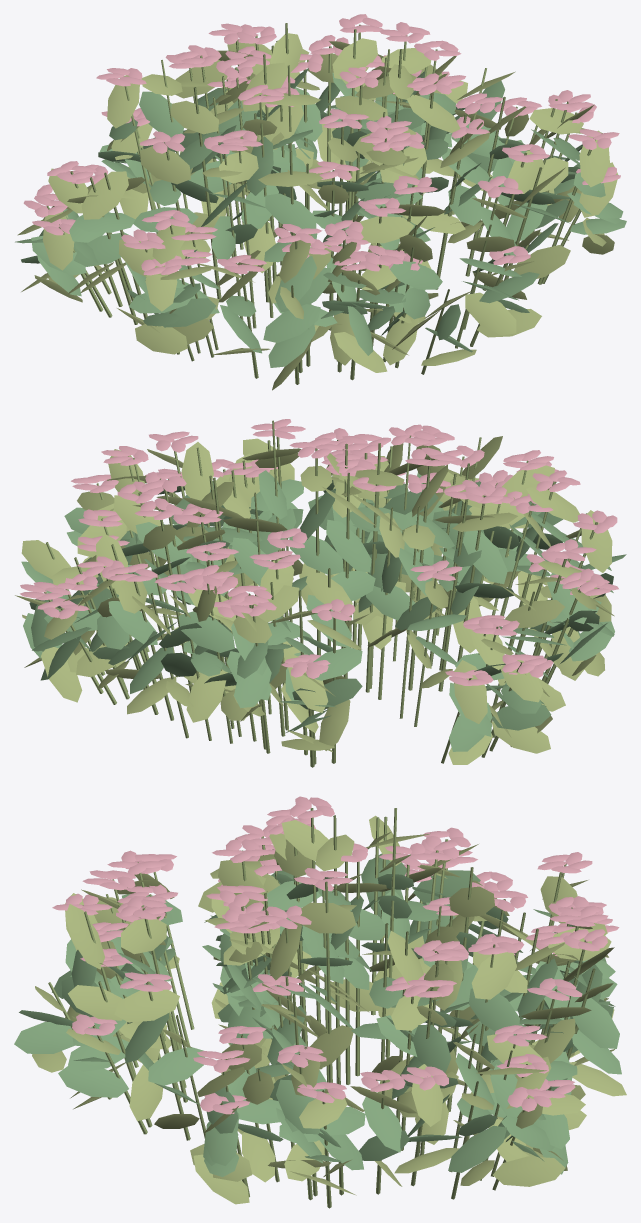
The model's file is study_flower_mound_1.glb.
3 renders of one model, top to bottom at view 1: azimuth 30°, elevation 25°; view 2: azimuth 150°, elevation 25°; view 3: azimuth 270°, elevation 25°, orthographic. The views are drawn at different scales.
Parts seen in each view (by area): view 1: study_flower_mound_1_StudyLeafGold, study_flower_mound_1_StudyLeafJade, study_flower_mound_1_StudyRose, study_flower_mound_1_LakeReed; view 2: study_flower_mound_1_StudyLeafGold, study_flower_mound_1_StudyLeafJade, study_flower_mound_1_StudyRose, study_flower_mound_1_LakeReed; view 3: study_flower_mound_1_StudyLeafGold, study_flower_mound_1_StudyLeafJade, study_flower_mound_1_StudyRose, study_flower_mound_1_LakeReed.
Part boxes in pixels (box(x1,y1,x2,y2)): study_flower_mound_1_StudyLeafGold: box(17, 33, 618, 390); study_flower_mound_1_StudyLeafJade: box(15, 68, 626, 367); study_flower_mound_1_StudyRose: box(23, 14, 620, 275); study_flower_mound_1_LakeReed: box(46, 23, 595, 384); study_flower_mound_1_StudyLeafGold: box(15, 436, 614, 764); study_flower_mound_1_StudyLeafJade: box(21, 470, 626, 751); study_flower_mound_1_StudyRose: box(20, 419, 618, 685); study_flower_mound_1_LakeReed: box(44, 420, 597, 767); study_flower_mound_1_StudyLeafGold: box(32, 815, 626, 1204); study_flower_mound_1_StudyLeafJade: box(14, 853, 621, 1176); study_flower_mound_1_StudyRose: box(52, 796, 619, 1114); study_flower_mound_1_LakeReed: box(48, 808, 595, 1208).
Size of the model in its own units: 2.36 by 1.04 by 2.16.
